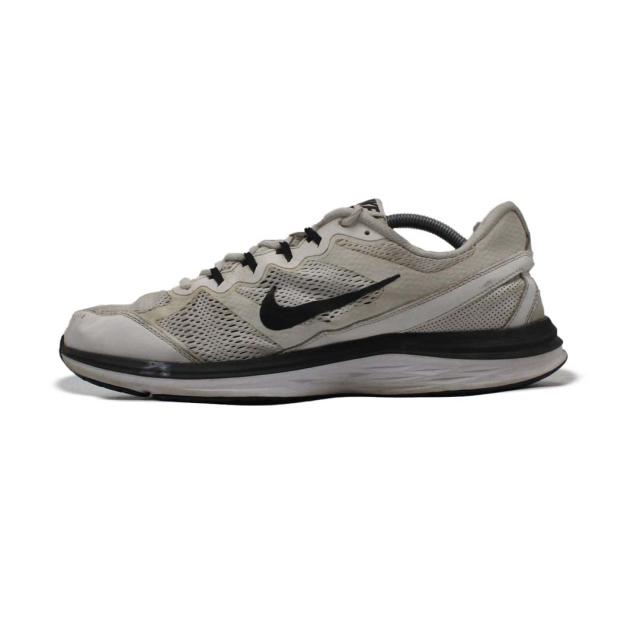heel: (515, 188, 575, 324)
midsole: (58, 336, 570, 399)
uppersole: (60, 194, 512, 360)
